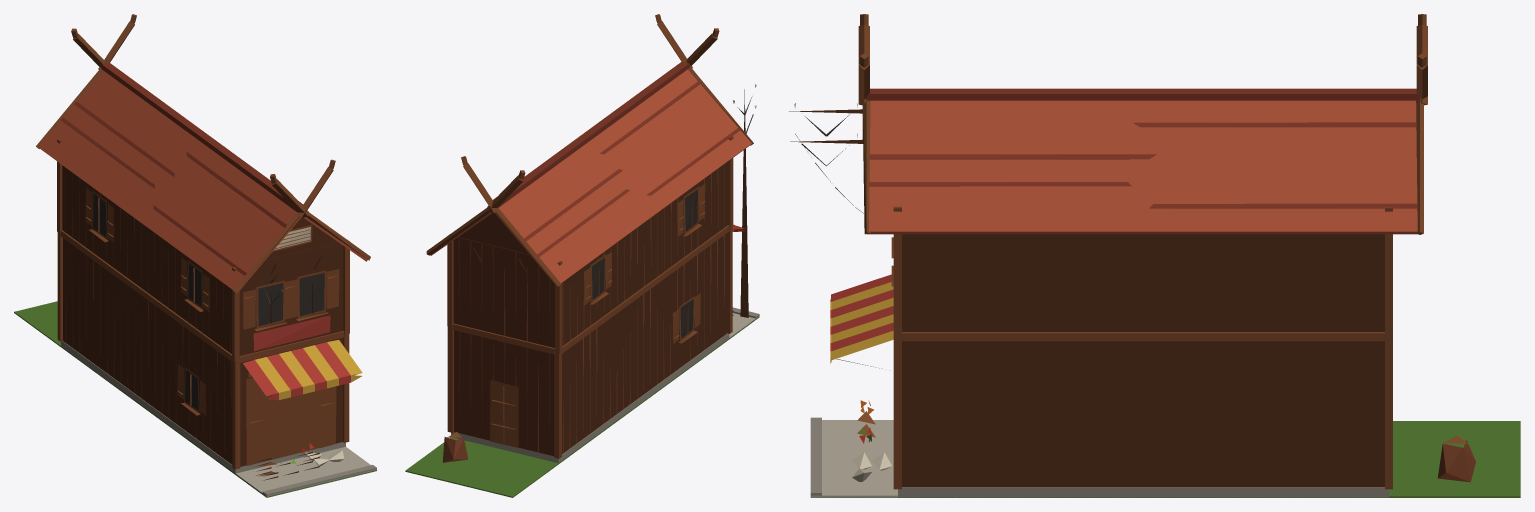
File: bay1_left.glb
3 renders of one model, left to right at view 1: azimuth 30°, elevation 25°; view 2: azimuth 150°, elevation 25°; view 3: azimuth 270°, elevation 25°, orthographic. The views are drawn at different scales.
Visible parts, largest first — view 1: body, windows; view 2: body, windows; view 3: body.
Boxes of the visible parts, left/top/right/bottom form: body: left=14, top=14, right=376, bottom=497; windows: left=93, top=193, right=324, bottom=409; body: left=405, top=14, right=759, bottom=497; windows: left=592, top=189, right=697, bottom=338; body: left=789, top=14, right=1520, bottom=497.
Size of the model in its own units: 5.02 by 10.54 by 16.4.
